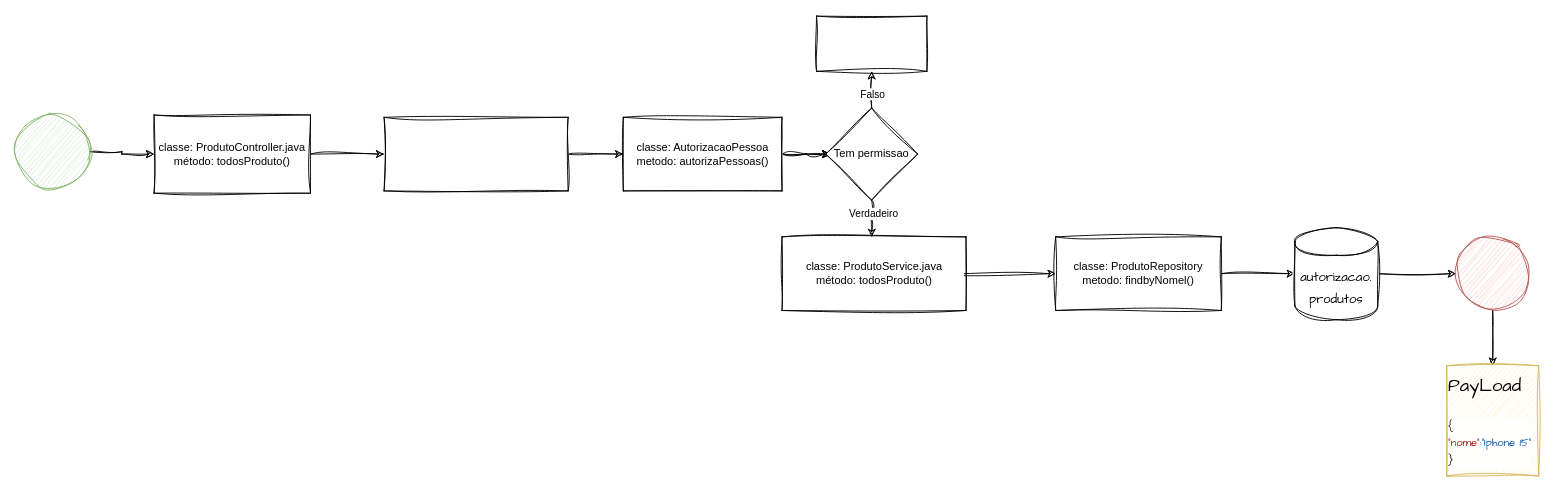
Image size: 1555x492. Some labels were removed from this diagram. The centre of each missing label's shape, as x and y in pixels:
classe: ProdutoService.java método: buscaProdutoPeloNome (): the point at 475,153
Fim: the point at 1492,273
Inicio: the point at 52,151
UNAUTHORIZED: the point at 871,43
